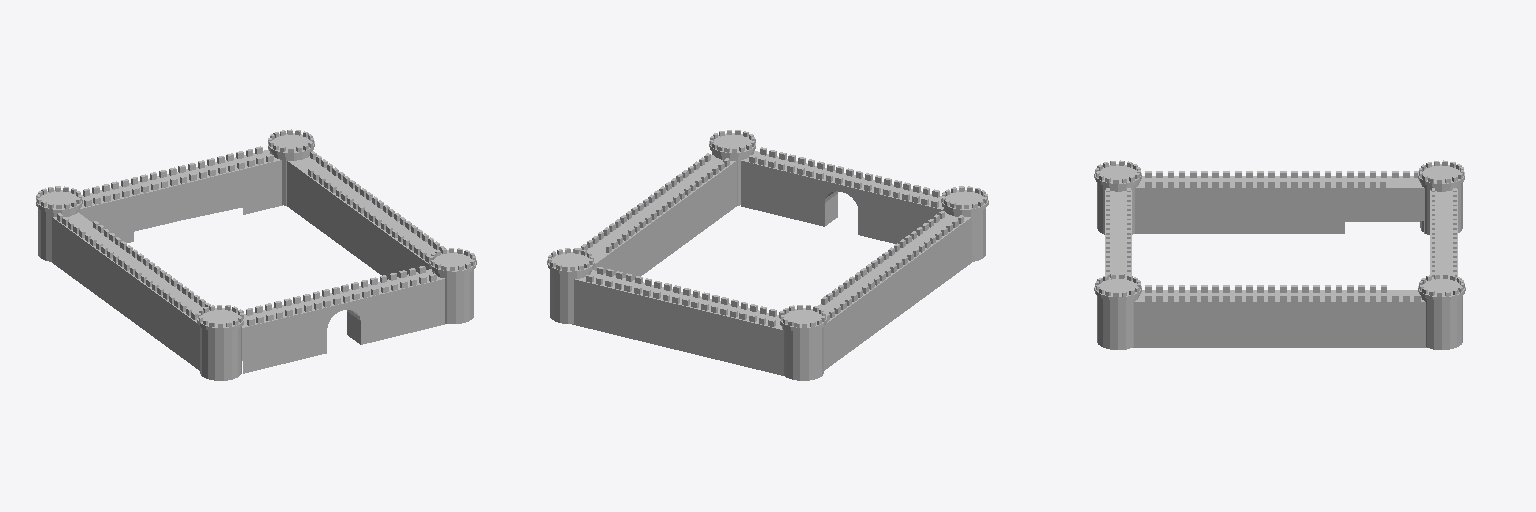
File: castle_exterior.obj
3 renders of one model, left to right at view 1: azimuth 30°, elevation 25°; view 2: azimuth 150°, elevation 25°; view 3: azimuth 270°, elevation 25°, orthographic.
Visible parts, largest first — view 1: Castle_Exterior; view 2: Castle_Exterior; view 3: Castle_Exterior.
Part boxes in pixels (left/top/right/bottom): Castle_Exterior: left=36, top=129, right=476, bottom=380; Castle_Exterior: left=547, top=130, right=988, bottom=380; Castle_Exterior: left=1094, top=160, right=1465, bottom=349.
Bounding box in the file's own units: 53.37 × 10.92 × 62.77.